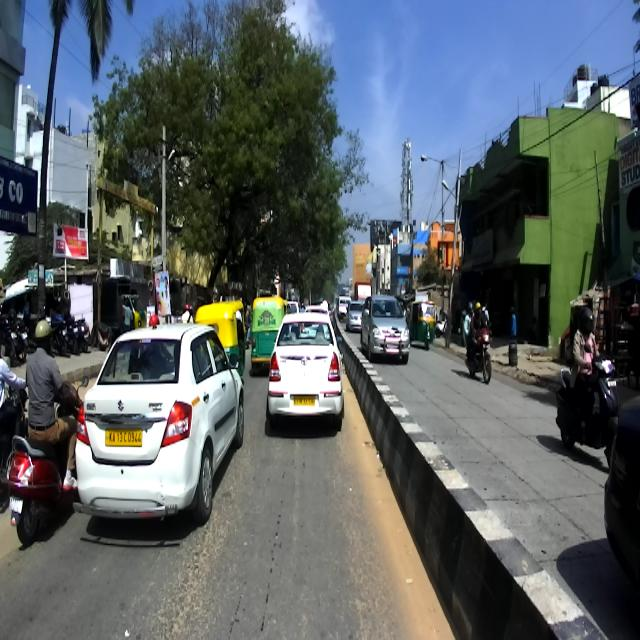car ahead at: (77, 310, 246, 528), (270, 306, 342, 427)
motorcycle ahead at: (6, 418, 82, 531)
